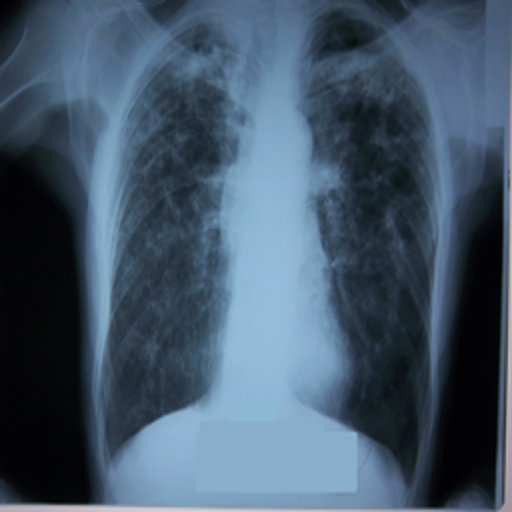TB: (313, 50, 416, 111), (150, 46, 240, 95)
